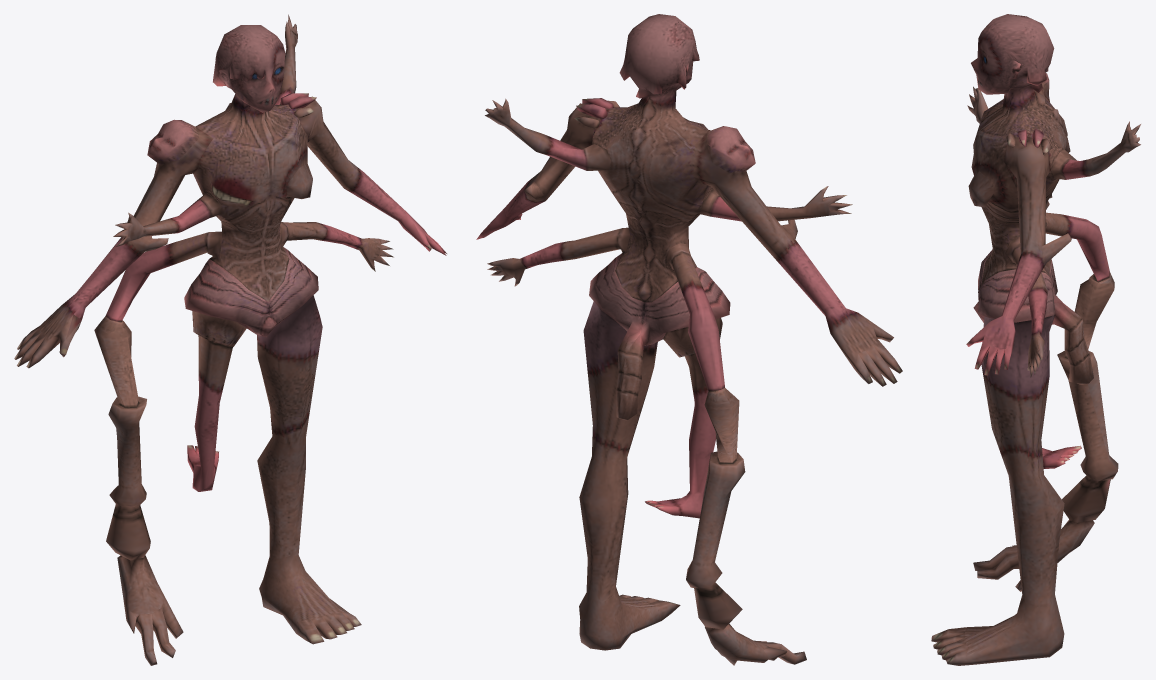
Rendered from COLECCIONISTA.glb.
3 renders of one model, left to right at view 1: azimuth 30°, elevation 25°; view 2: azimuth 150°, elevation 25°; view 3: azimuth 270°, elevation 25°, orthographic. The views are drawn at different scales.
Visible parts, largest first — view 1: Coleccionista low.001; view 2: Coleccionista low.001; view 3: Coleccionista low.001.
Part boxes in pixels (left/top/right/bottom): Coleccionista low.001: left=14, top=14, right=446, bottom=665; Coleccionista low.001: left=476, top=14, right=902, bottom=665; Coleccionista low.001: left=931, top=14, right=1140, bottom=665.
Bounding box in the file's own units: 1.85 × 2.55 × 0.7962.
Materials: 2 (2 with a texture image).
